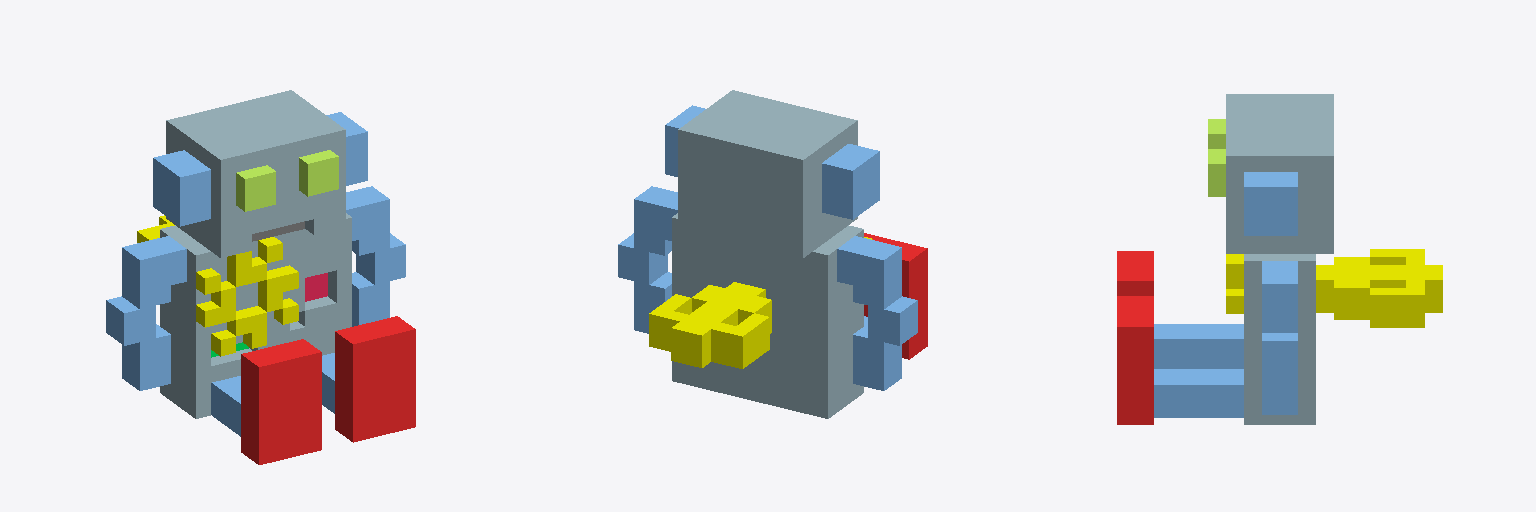
3 views of the same model, side by side, from view 1: azimuth 30°, elevation 25°; view 2: azimuth 150°, elevation 25°; view 3: azimuth 270°, elevation 25° (orthographic).
Parts seen in each view (by area): view 1: object 1; view 2: object 1; view 3: object 1.
Boxes of the visible parts, x1,y1,x2,y2 form: object 1: [106, 90, 415, 464]; object 1: [618, 90, 927, 418]; object 1: [1117, 94, 1442, 424].
Bounding box in the file's own units: 1.8 × 1.6 × 1.8.
1 materials, 1 textured.